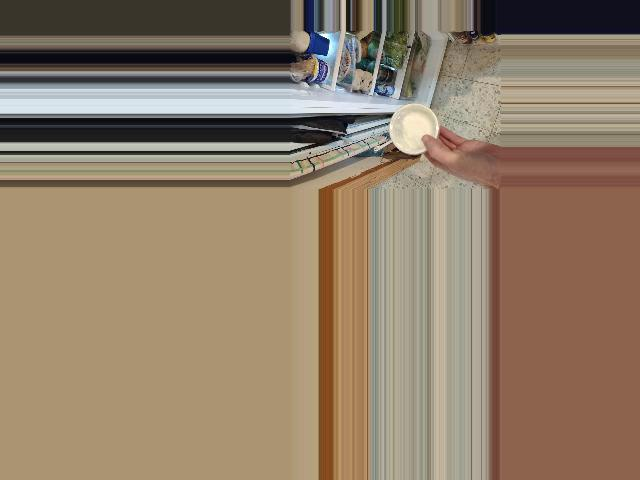cotage: (392, 111, 441, 157)
